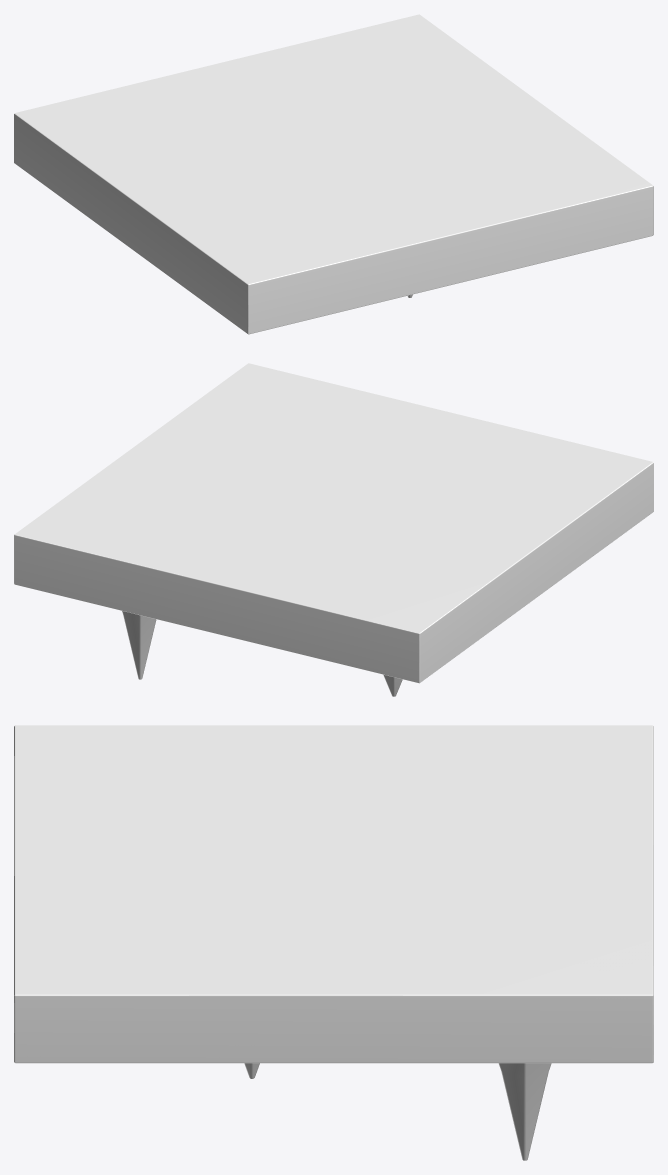
The model's file is ceiling.glb.
The picture shows the model from 3 angles, top to bottom: view 1: azimuth 30°, elevation 25°; view 2: azimuth 150°, elevation 25°; view 3: azimuth 270°, elevation 25°; orthographic projection. The views are drawn at different scales.
Visible parts, largest first — view 1: Ceiling; view 2: Ceiling; view 3: Ceiling.
Part boxes in pixels (bbox=[...]): Ceiling: bbox=[14, 14, 653, 334]; Ceiling: bbox=[14, 363, 653, 696]; Ceiling: bbox=[14, 725, 653, 1160].
Bounding box in the file's own units: 4.2 × 1.58 × 4.2.
Materials: 1 (1 with a texture image).
